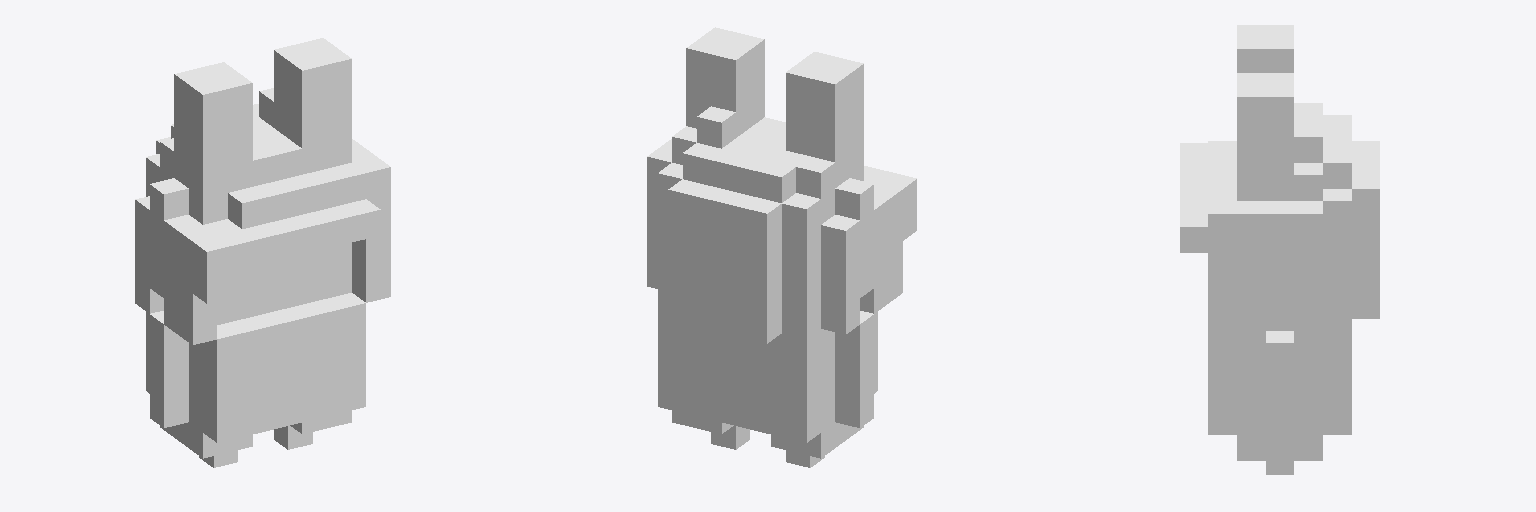
File: chr_longman.obj
3 renders of one model, left to right at view 1: azimuth 30°, elevation 25°; view 2: azimuth 150°, elevation 25°; view 3: azimuth 270°, elevation 25°, orthographic.
Parts seen in each view (by area): view 1: chr_longman; view 2: chr_longman; view 3: chr_longman.
Boxes of the visible parts, x1=… form: chr_longman: x1=135, y1=38, x2=390, y2=467; chr_longman: x1=647, y1=27, x2=916, y2=467; chr_longman: x1=1180, y1=25, x2=1379, y2=474.
Size of the model in its own units: 8 by 15 by 7.